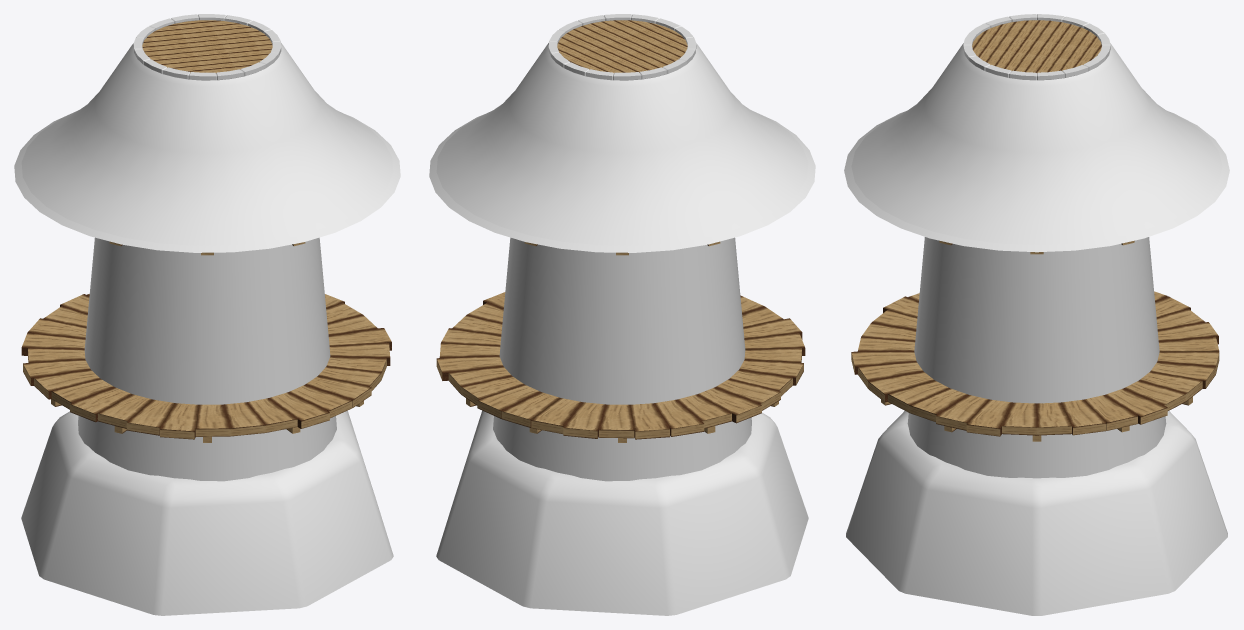
The model's file is SM_world_2_windmill_building.fbx.
3 renders of one model, left to right at view 1: azimuth 30°, elevation 25°; view 2: azimuth 150°, elevation 25°; view 3: azimuth 270°, elevation 25°, orthographic.
Parts seen in each view (by area): view 1: Cube; view 2: Cube; view 3: Cube.
Part boxes in pixels (<box>): Cube: <box>14,14,400,615</box>; Cube: <box>429,14,815,615</box>; Cube: <box>844,14,1229,615</box>.
Size of the model in its own units: 2946 by 2946 by 4129.
